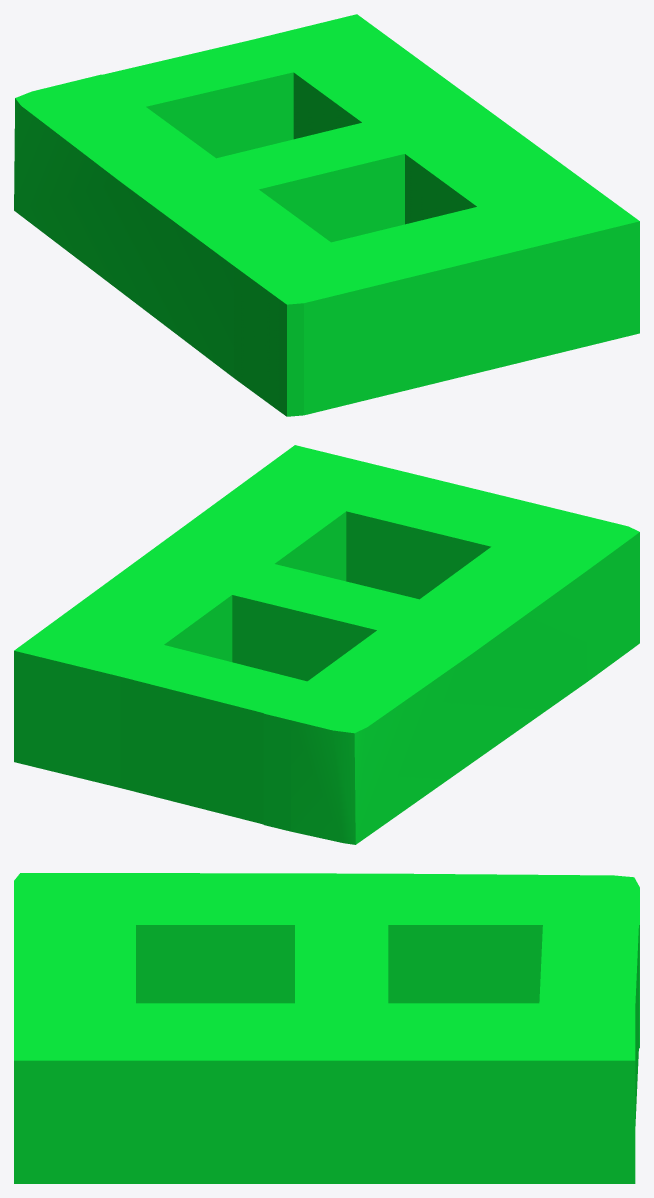
Rendered from LetterB.obj.
The picture shows the model from 3 angles, top to bottom: view 1: azimuth 30°, elevation 25°; view 2: azimuth 150°, elevation 25°; view 3: azimuth 270°, elevation 25°; orthographic projection. The views are drawn at different scales.
Visible parts, largest first — view 1: LetterB; view 2: LetterB; view 3: LetterB.
Boxes of the visible parts, left/top/right/bottom form: LetterB: left=14, top=14, right=639, bottom=416; LetterB: left=14, top=445, right=639, bottom=844; LetterB: left=14, top=873, right=639, bottom=1183.
Size of the model in its own units: 3.27 by 1 by 4.6.
